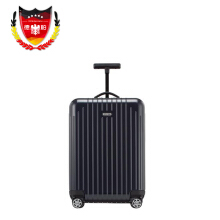luggage: (69, 59, 147, 208)
